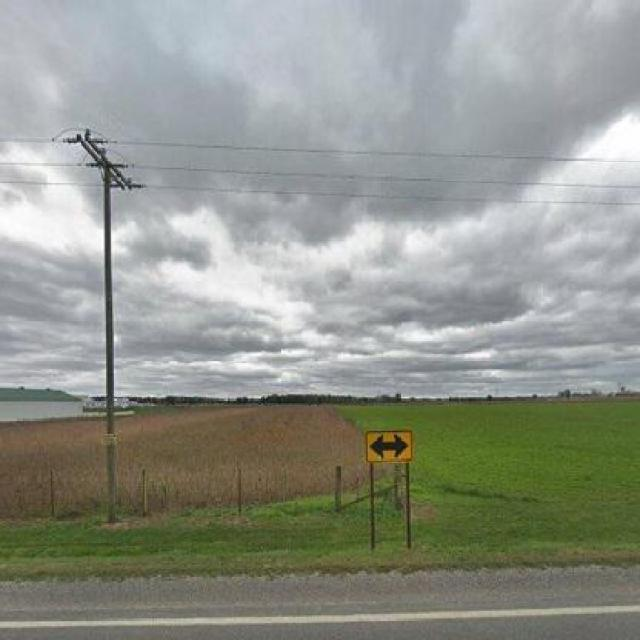pole: (46, 115, 146, 508)
